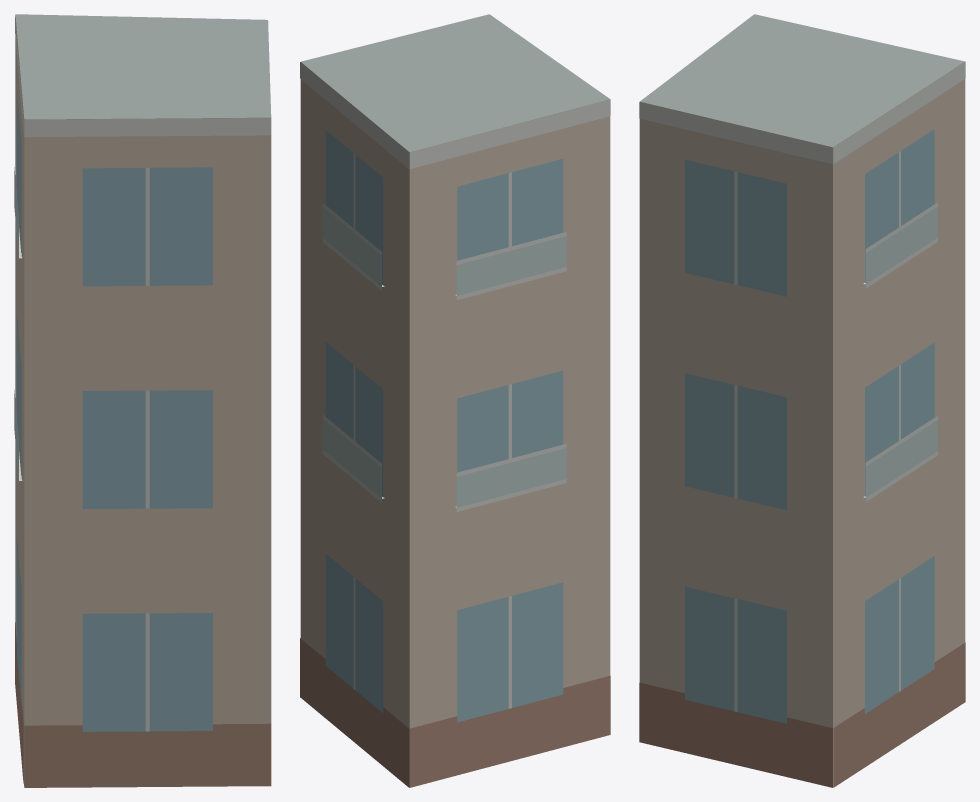
Rendered from survey-upis-32555983.glb.
The picture shows the model from 3 angles, left to right: view 1: azimuth 30°, elevation 25°; view 2: azimuth 150°, elevation 25°; view 3: azimuth 270°, elevation 25°; orthographic projection. The views are drawn at different scales.
Visible parts, largest first — view 1: survey-upis-32555983.tmp; view 2: survey-upis-32555983.tmp; view 3: survey-upis-32555983.tmp.
Part boxes in pixels (left/top/right/bottom): survey-upis-32555983.tmp: left=14, top=14, right=271, bottom=787; survey-upis-32555983.tmp: left=300, top=14, right=610, bottom=787; survey-upis-32555983.tmp: left=639, top=14, right=965, bottom=787.
Size of the model in its own units: 4.09 by 9.15 by 4.23.
